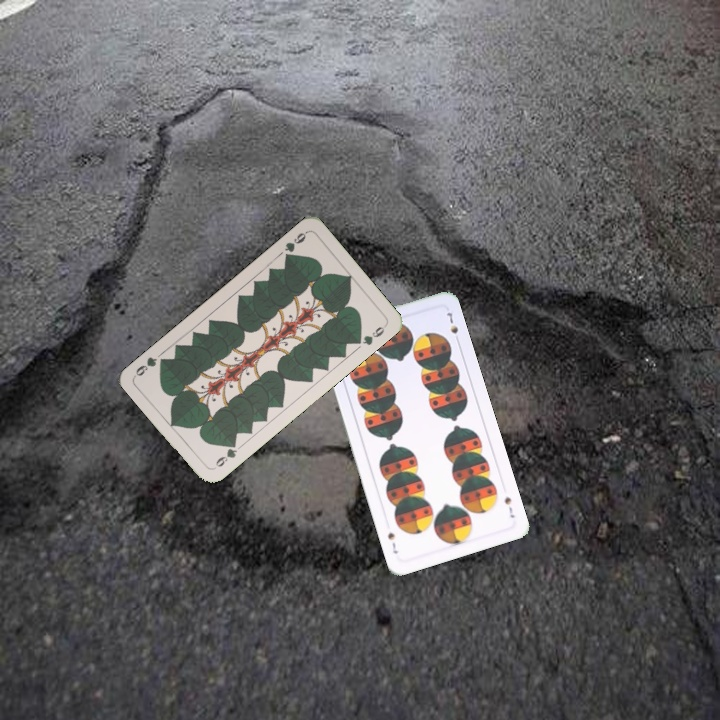G9: (280, 227, 310, 262), (211, 438, 240, 470)
S7: (500, 493, 517, 521)
